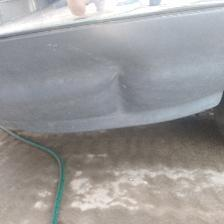dent: (94, 58, 130, 90)
